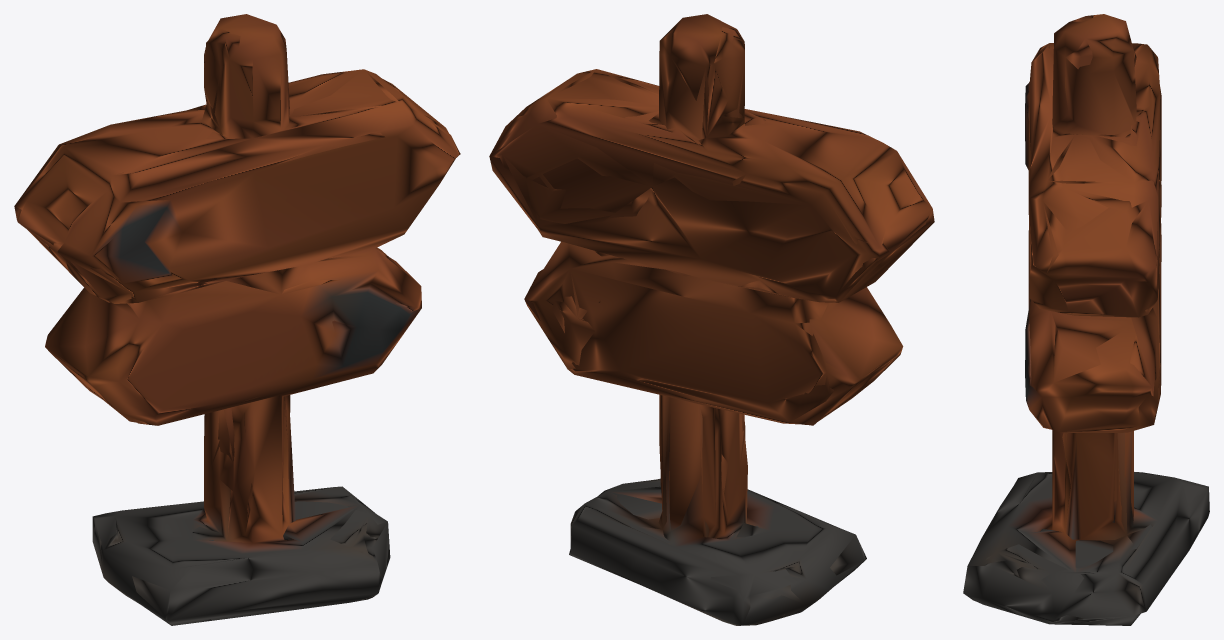
Rendered from gen3d-trail-sign-lod0.glb.
The picture shows the model from 3 angles, left to right: view 1: azimuth 30°, elevation 25°; view 2: azimuth 150°, elevation 25°; view 3: azimuth 270°, elevation 25°; orthographic projection.
Parts seen in each view (by area): view 1: part_0; view 2: part_0; view 3: part_0.
Part boxes in pixels (<box>): part_0: <box>14,14,460,625</box>; part_0: <box>489,14,934,625</box>; part_0: <box>963,14,1209,625</box>.
Size of the model in its own units: 0.763 by 0.9999 by 0.4068.
